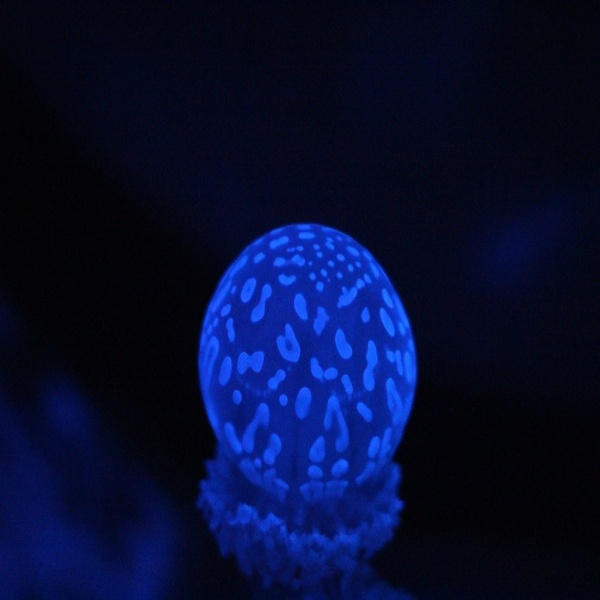Jellyfish: (193, 217, 418, 599)
